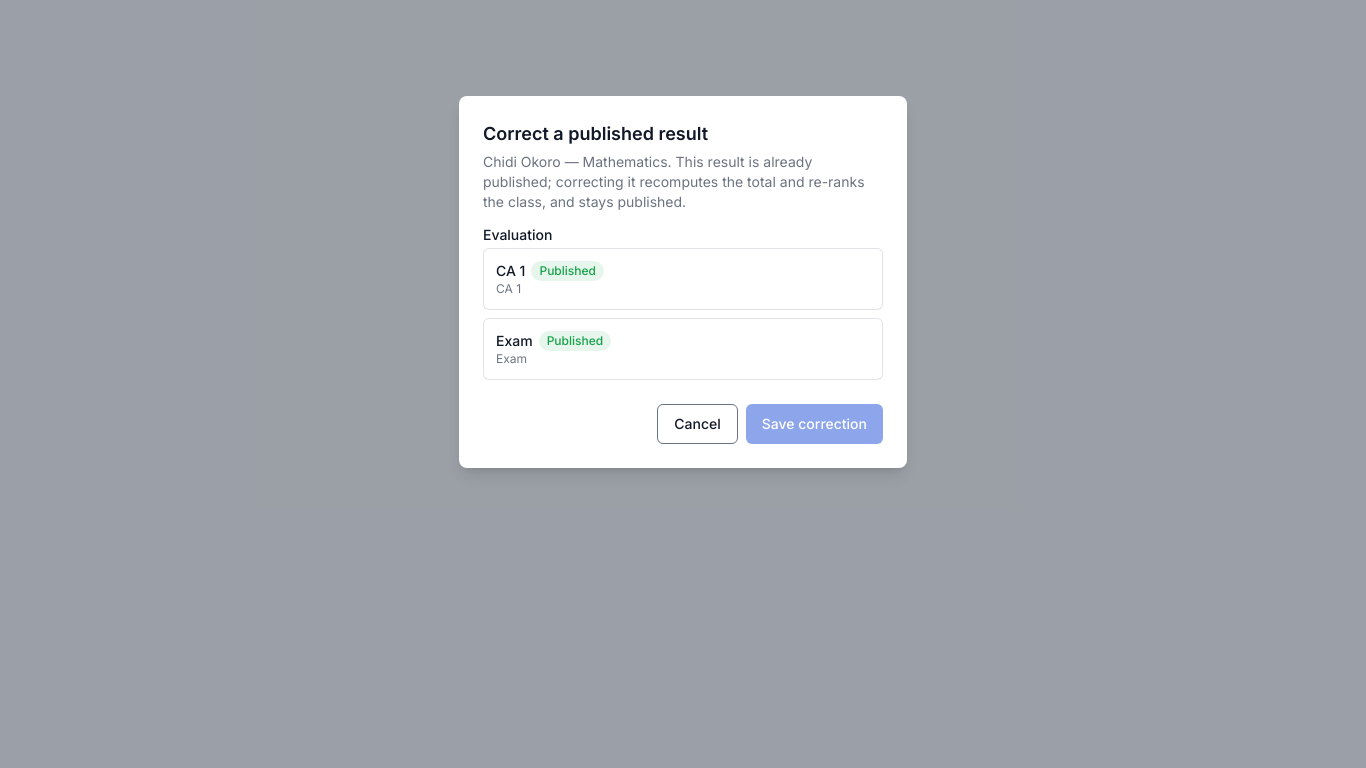
it: MarkAbsentDialog › a rejected correction (e.g. closed term) shows the backend's message, not a silent failure
This screenshot has width=1366, height=768.
What coordinates should you click on to do the following:
click the button "Exam Published Exam"
I would click on:
 (514, 340)
Its box is [483, 318, 883, 380].
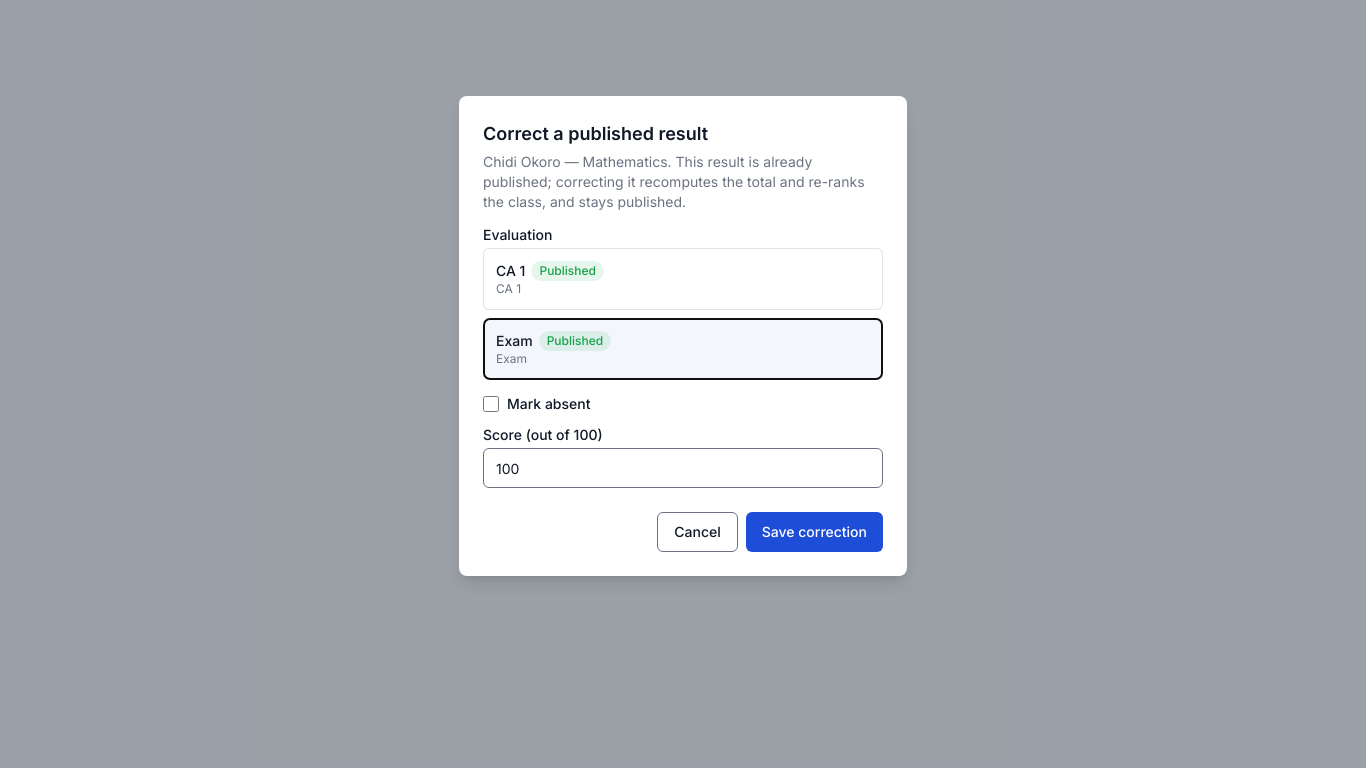
Now the field showing "100" is shown, box [483, 448, 883, 488]
What coordinates should you click on to do the following:
click the checkbox labelled "Mark absent"
I would click on:
 (491, 404)
Its box is [483, 396, 499, 412].
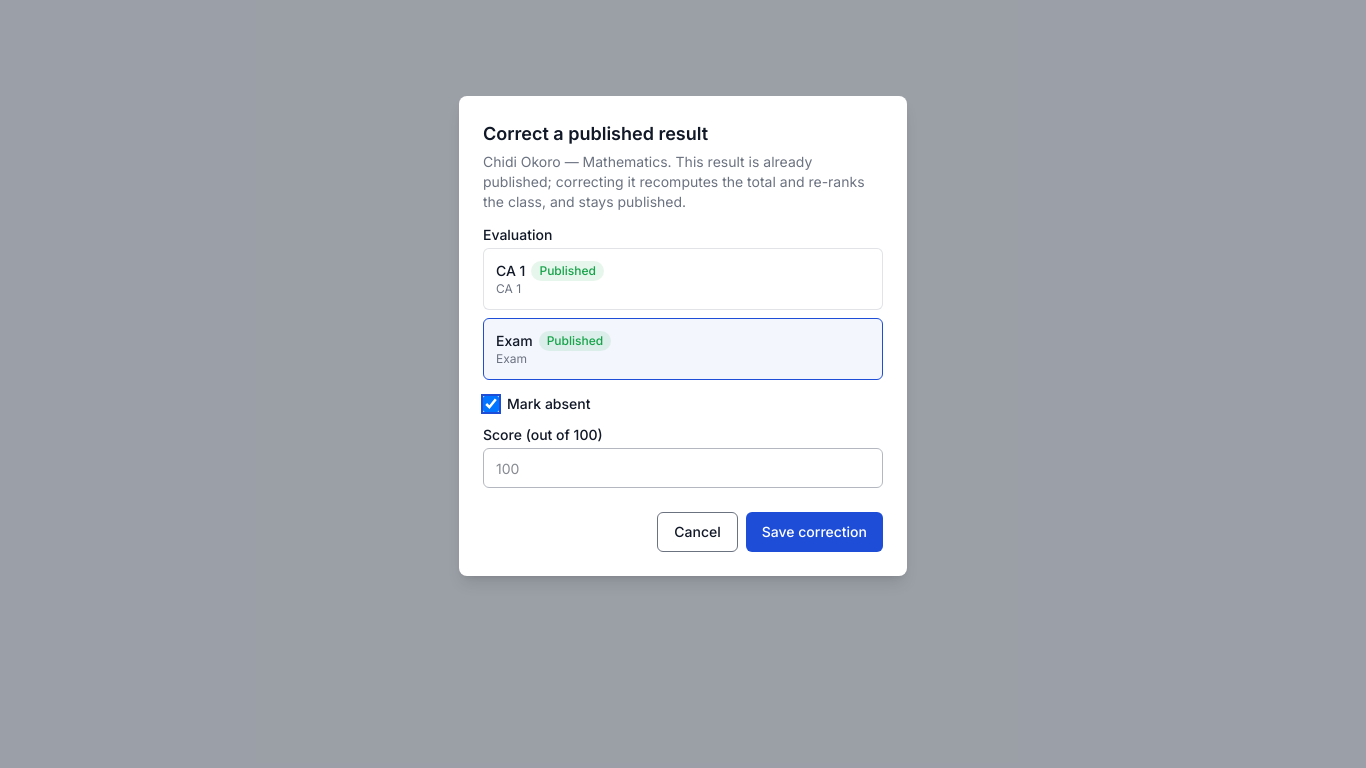
What coordinates should you click on to do the following:
click the button "Save correction"
I would click on:
 (814, 532)
Its box is [746, 512, 883, 552].
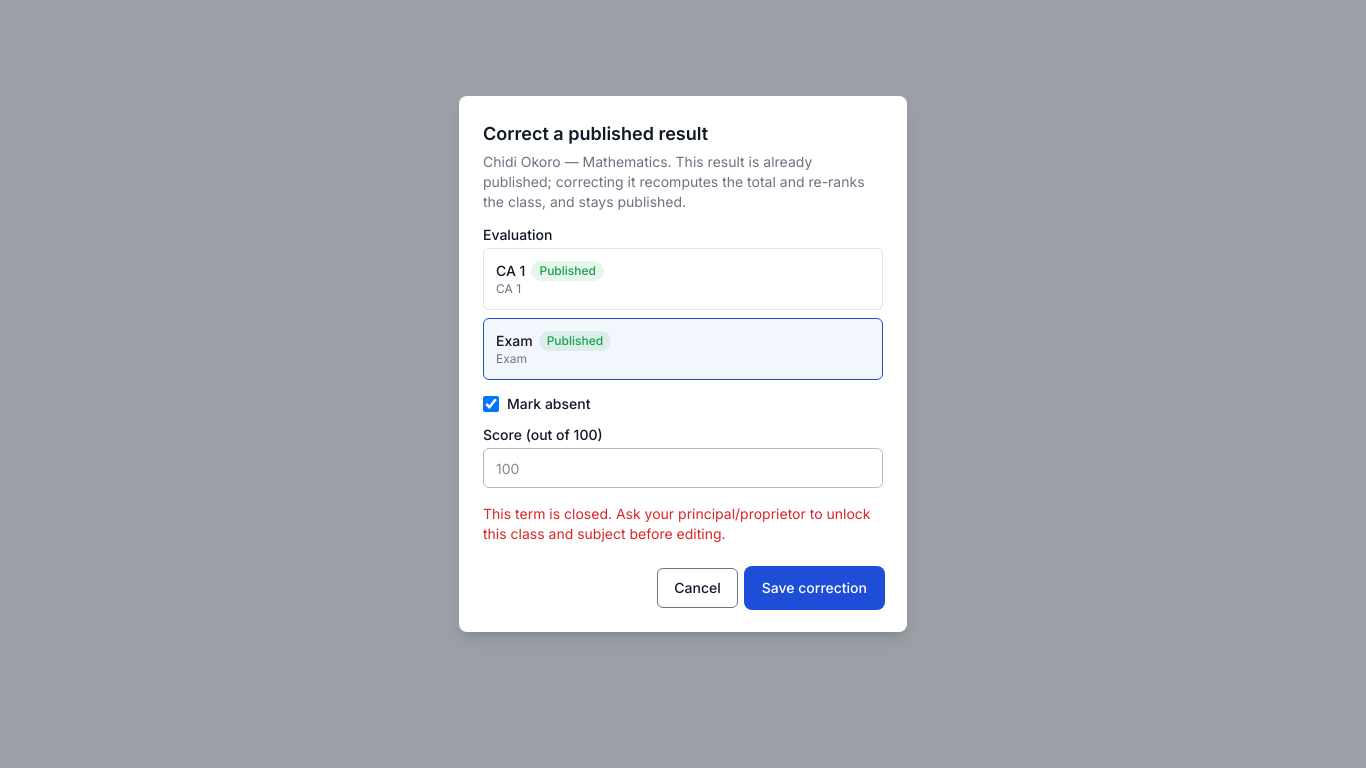
Now the text "This term is closed" is shown, box [483, 505, 870, 542]
